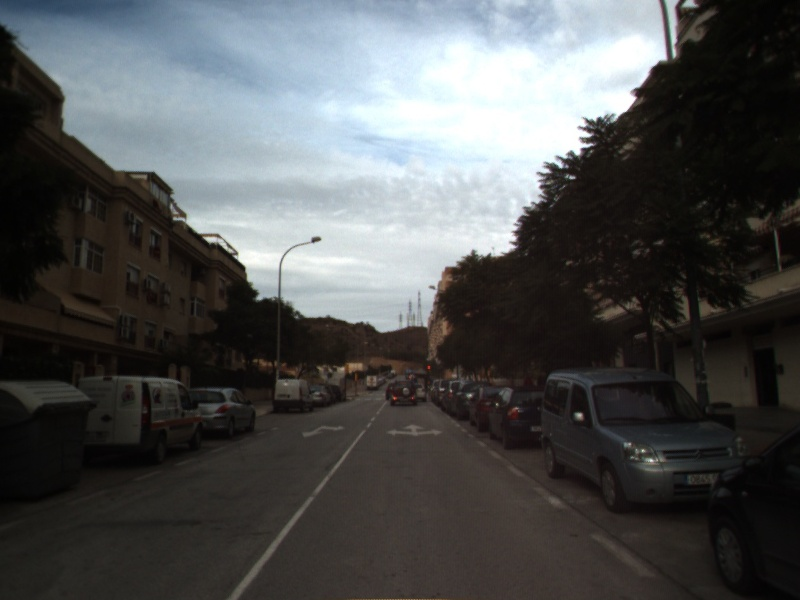STRAIGHT_LEFT_RIGHT: (384, 421, 445, 438)
